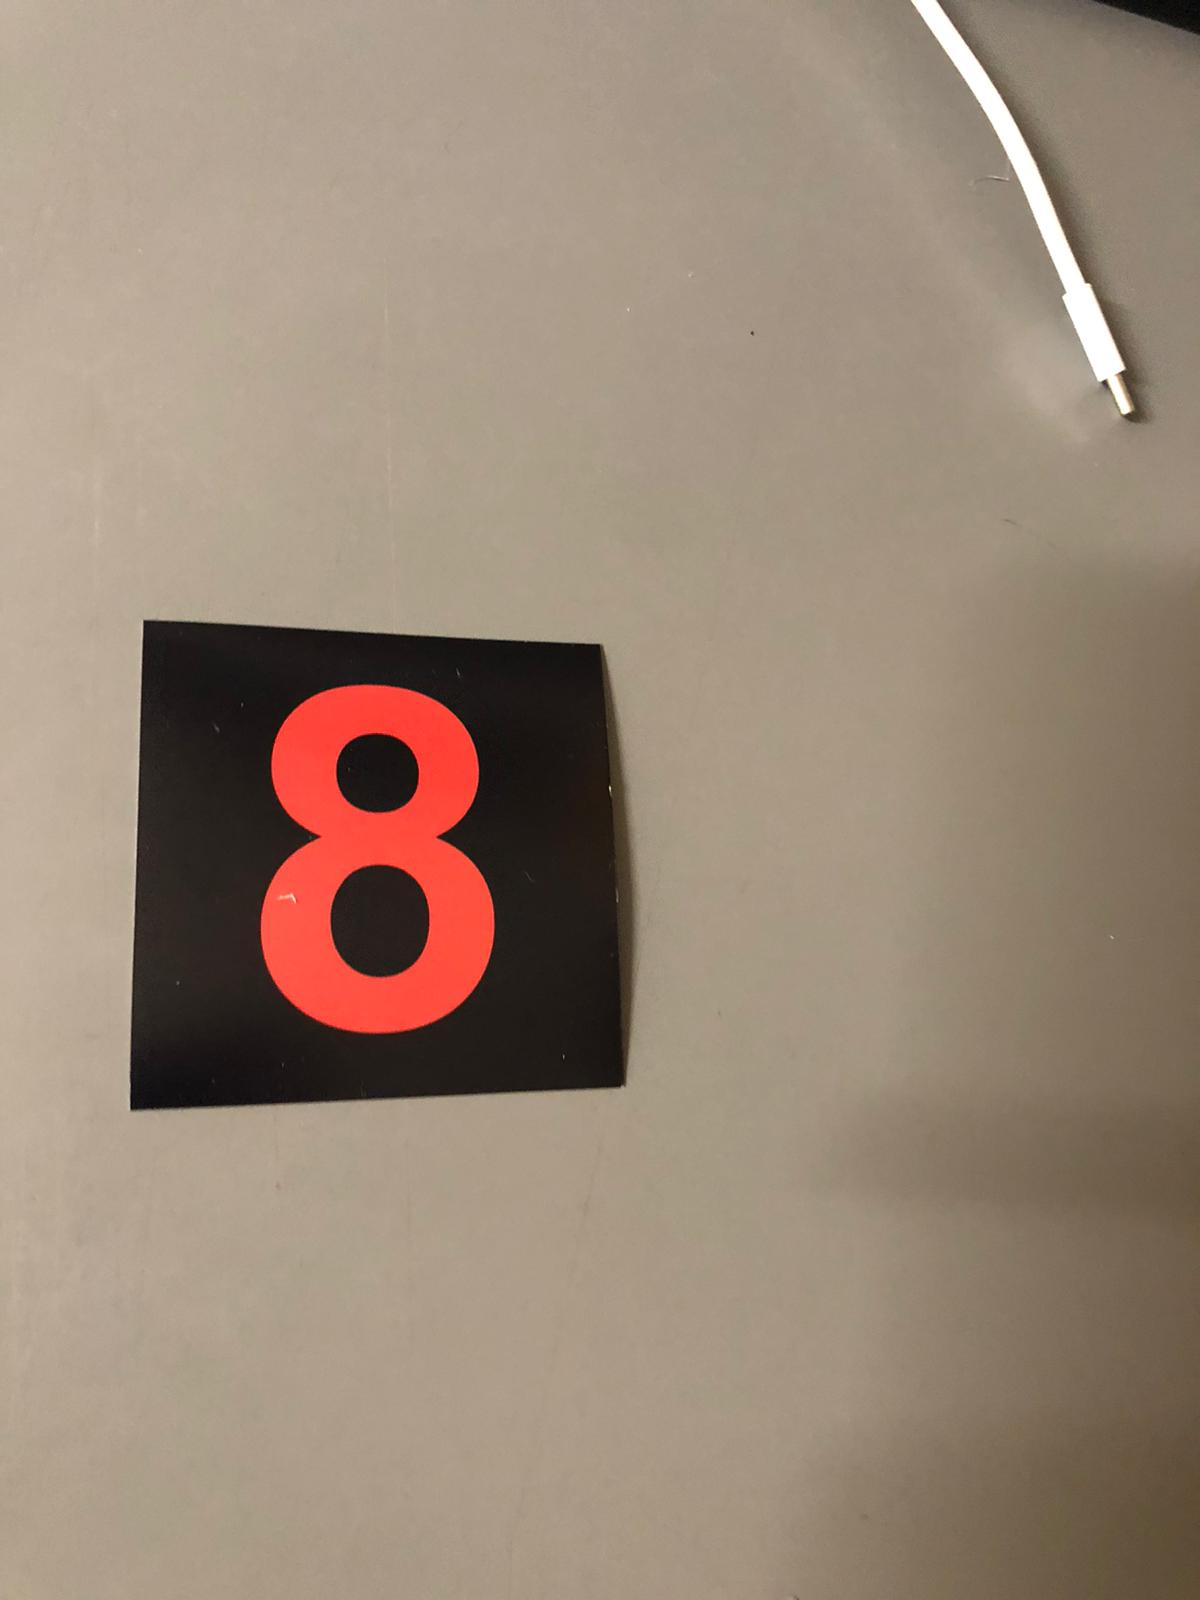Number 8: (158, 643, 603, 1077)
